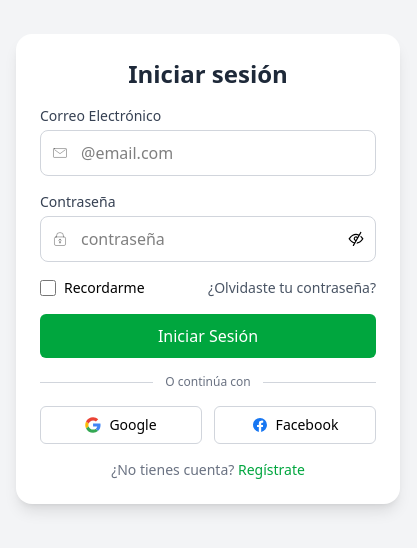
LoginForm behavior › shows error when login rejects
This screenshot has width=417, height=548.
Type "bad@x.com" into the field labelled "Correo Electrónico".
click(208, 153); type("bad@x.com")  # box [40,130,376,176]
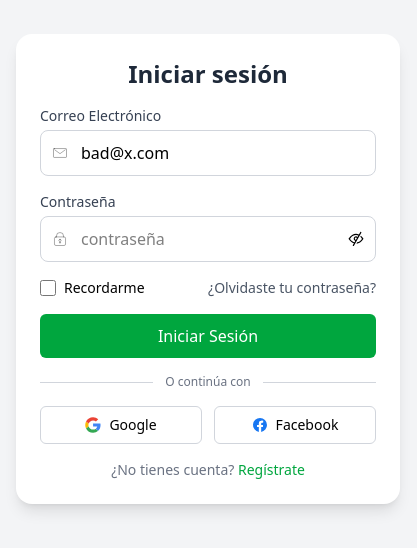
Type "bad" into the password field with placeholder "Contraseña".
click(208, 239); type("bad")  # box [40,216,376,262]
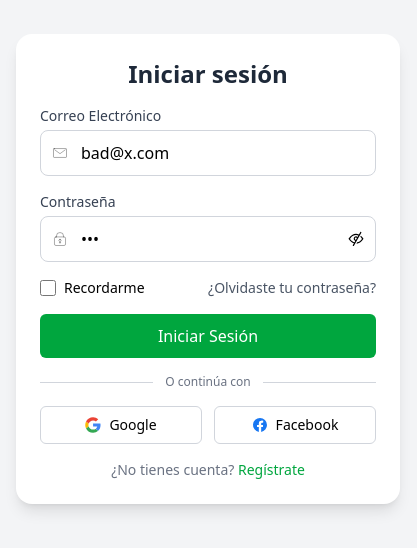
Click the button "Iniciar Sesión".
click(208, 336)  # box [40,314,376,358]
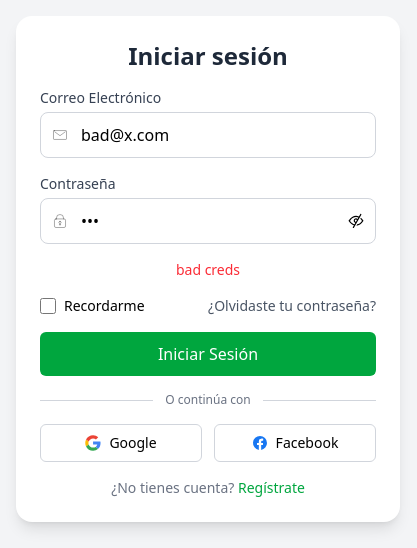
Result: the text "bad creds" is shown at [176,260,240,279]
